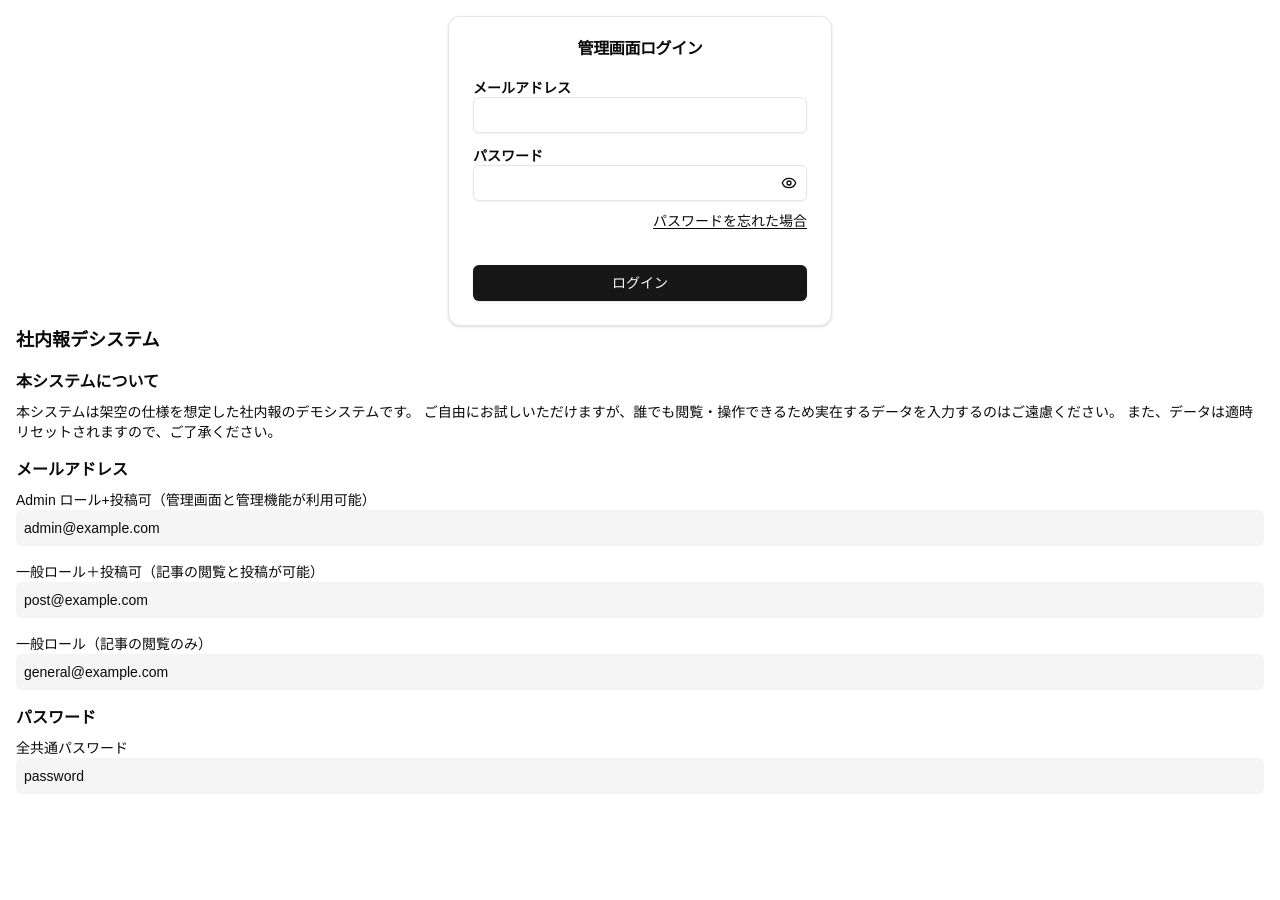
ログイン失敗した場合、エラーメッセージを表示する
The width and height of the screenshot is (1280, 900).
Type "a@example.com" into the field labelled "メールアドレス".
click(640, 115); type("a@example.com")  # box [473, 97, 807, 133]
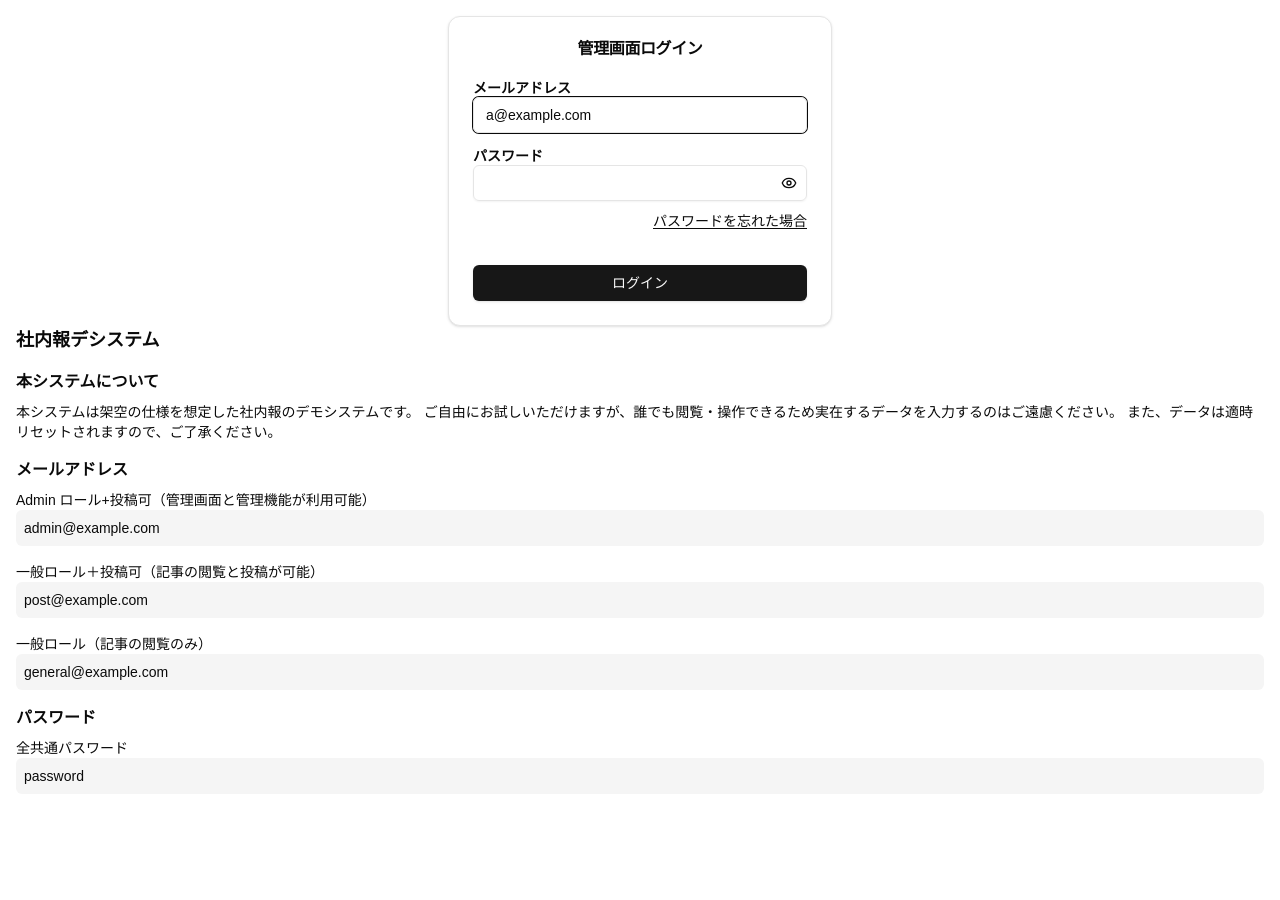
Type "123456" into the password field labelled "パスワード".
click(640, 183); type("123456")  # box [473, 165, 807, 201]
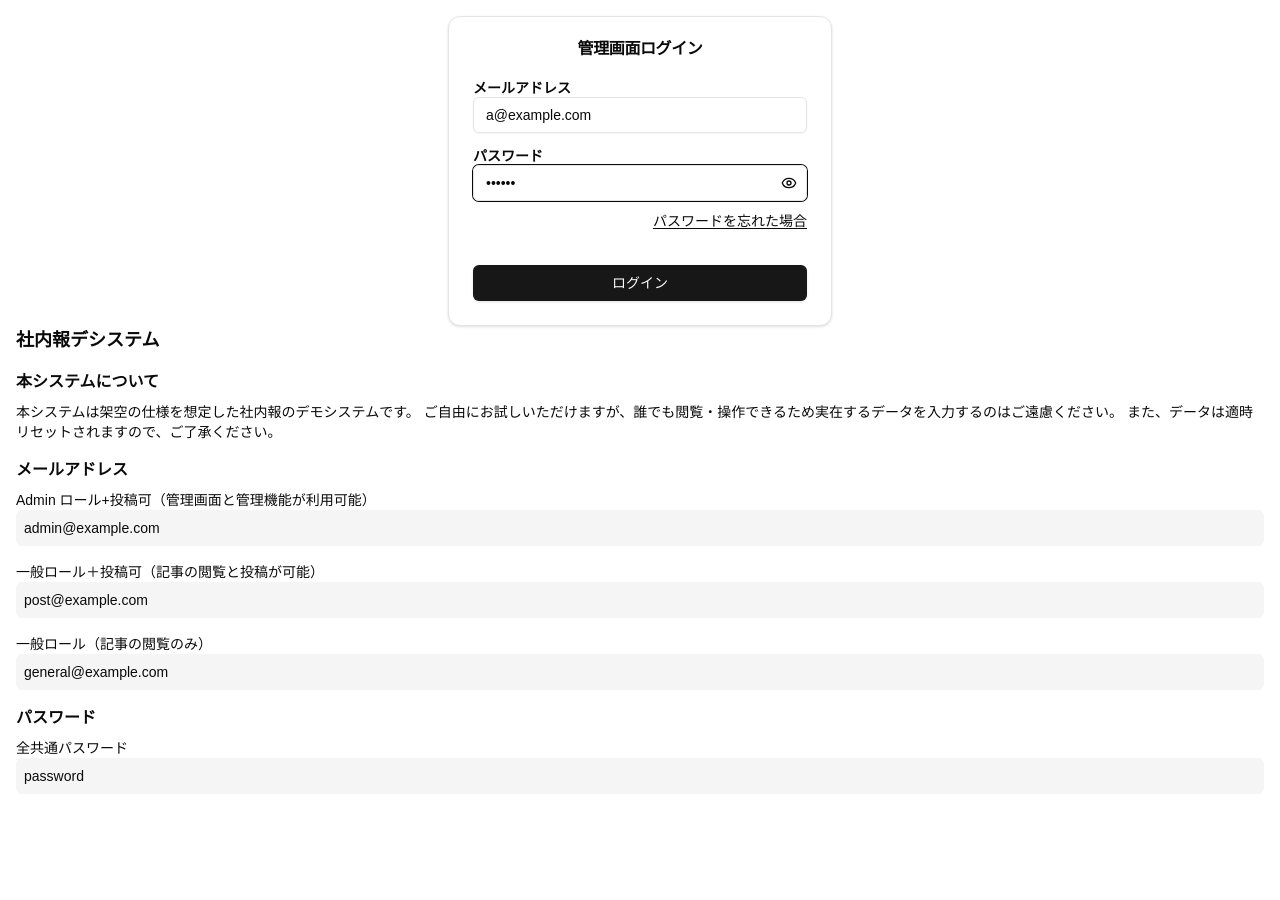
Click the button "ログイン".
click(640, 283)  # box [473, 265, 807, 301]
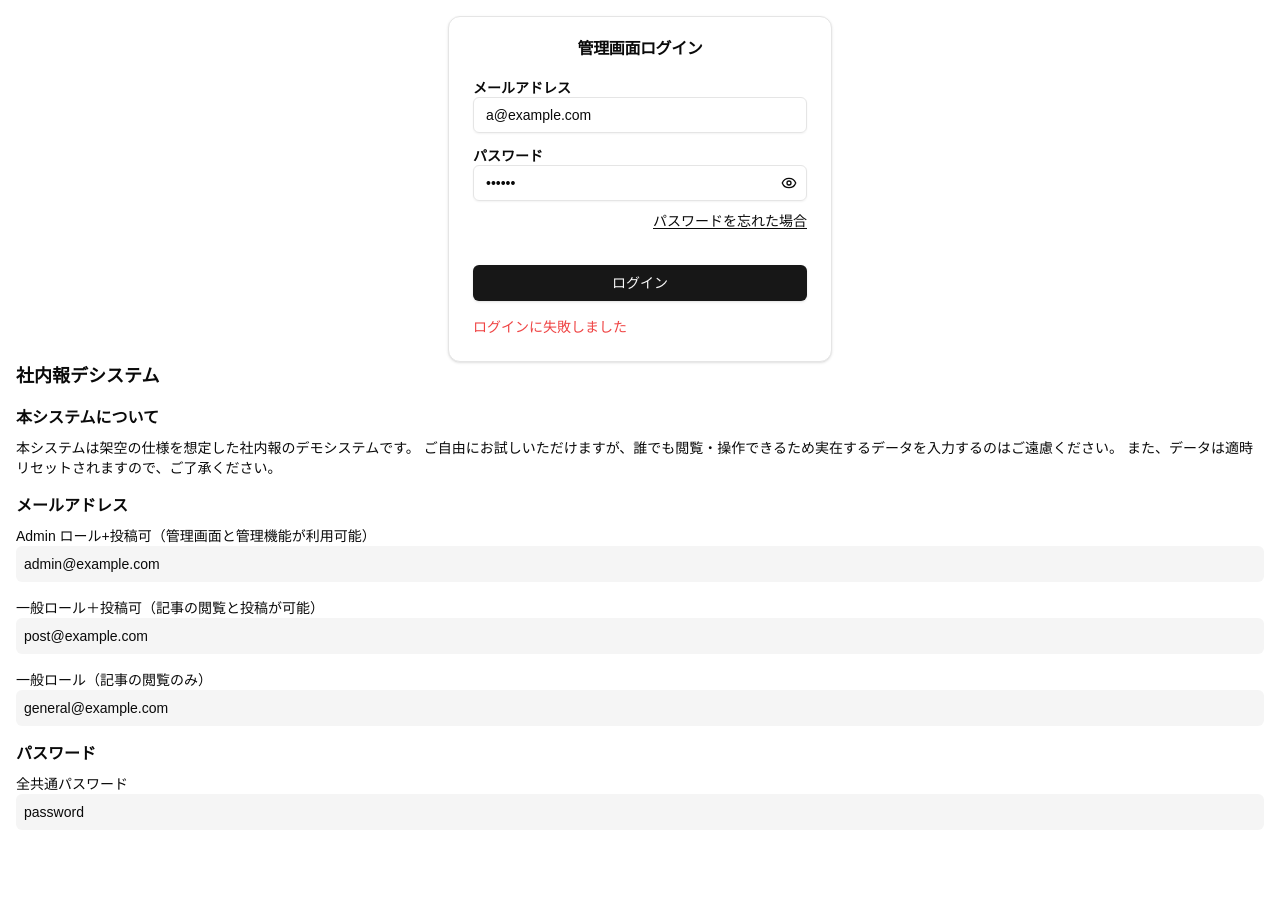
Result: the text "ログインに失敗しました" is shown at [473, 319, 627, 335]
